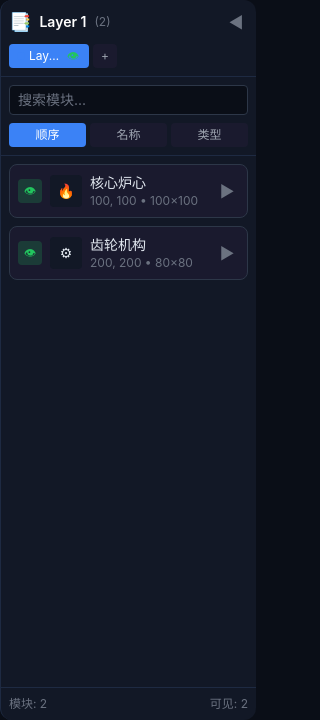
Test: LayersPanel › Filter and Sort › should filter modules by name
Type "gear" into the field with test id "layers-filter-input" at point(128, 100), box [9,85,248,115]
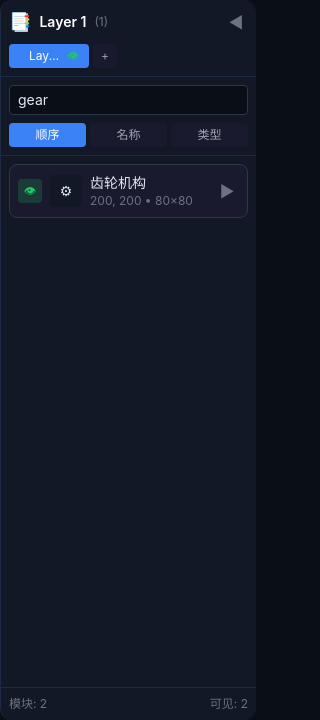
Expected: the element with test id "layer-item-m2" is shown, [9,164,248,218]
Expected: the element with test id "layer-item-m1" is gone
